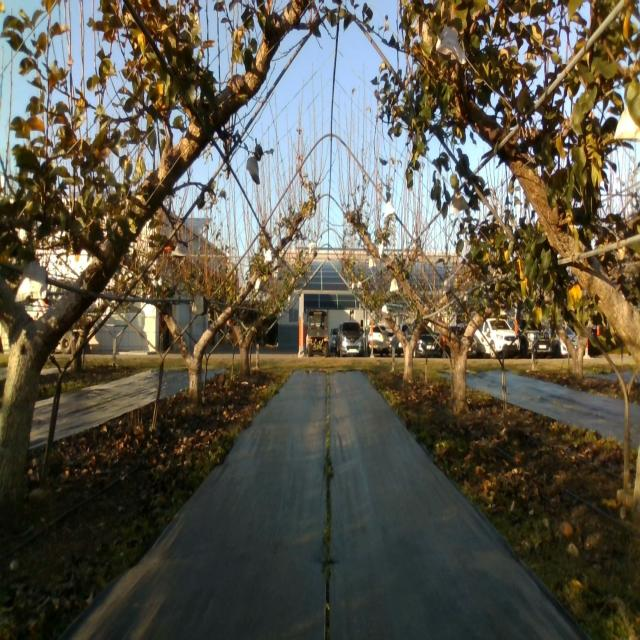pearbags: (14, 261, 47, 302), (436, 24, 466, 67), (451, 192, 468, 215), (246, 156, 259, 183), (172, 242, 189, 259), (442, 278, 453, 296)
